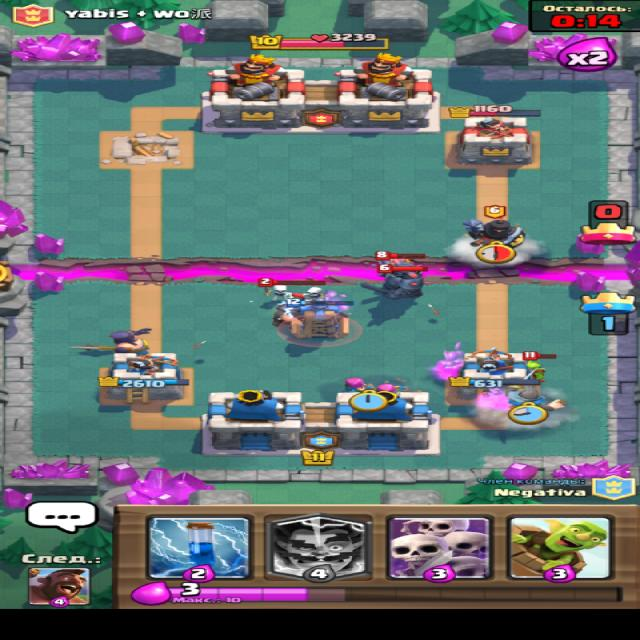Enemy-DarkPrince: (461, 204, 524, 247)
Enemy-Goblin: (520, 350, 556, 381)
Enemy-MegaKnight: (255, 277, 329, 327)
Enemy-PEKKA: (358, 262, 426, 300)
Enemy-Skeleton: (261, 284, 292, 302), (301, 286, 328, 298)
Enemy-Valkyrie: (374, 250, 426, 263)
Player-Archer: (334, 377, 374, 392), (376, 383, 409, 392)
Player-Executioner: (67, 326, 152, 354)
Player-Knight: (503, 368, 564, 418)
Player-Tesla: (281, 298, 355, 340)
